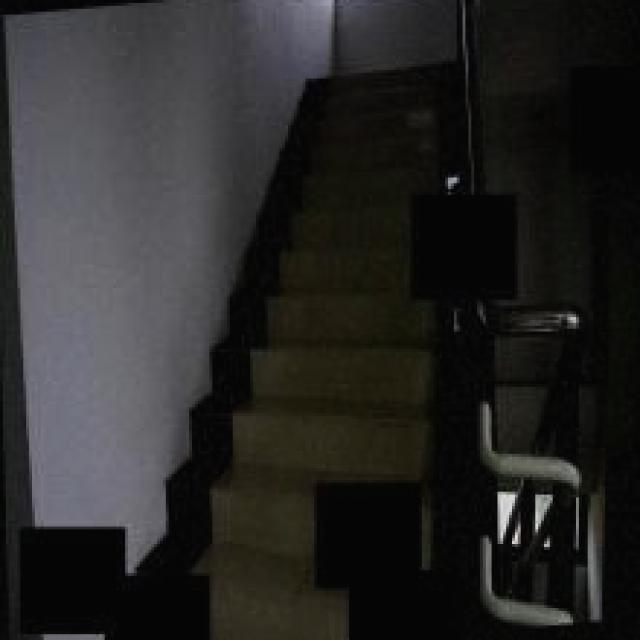upstair: (225, 289, 405, 458)
